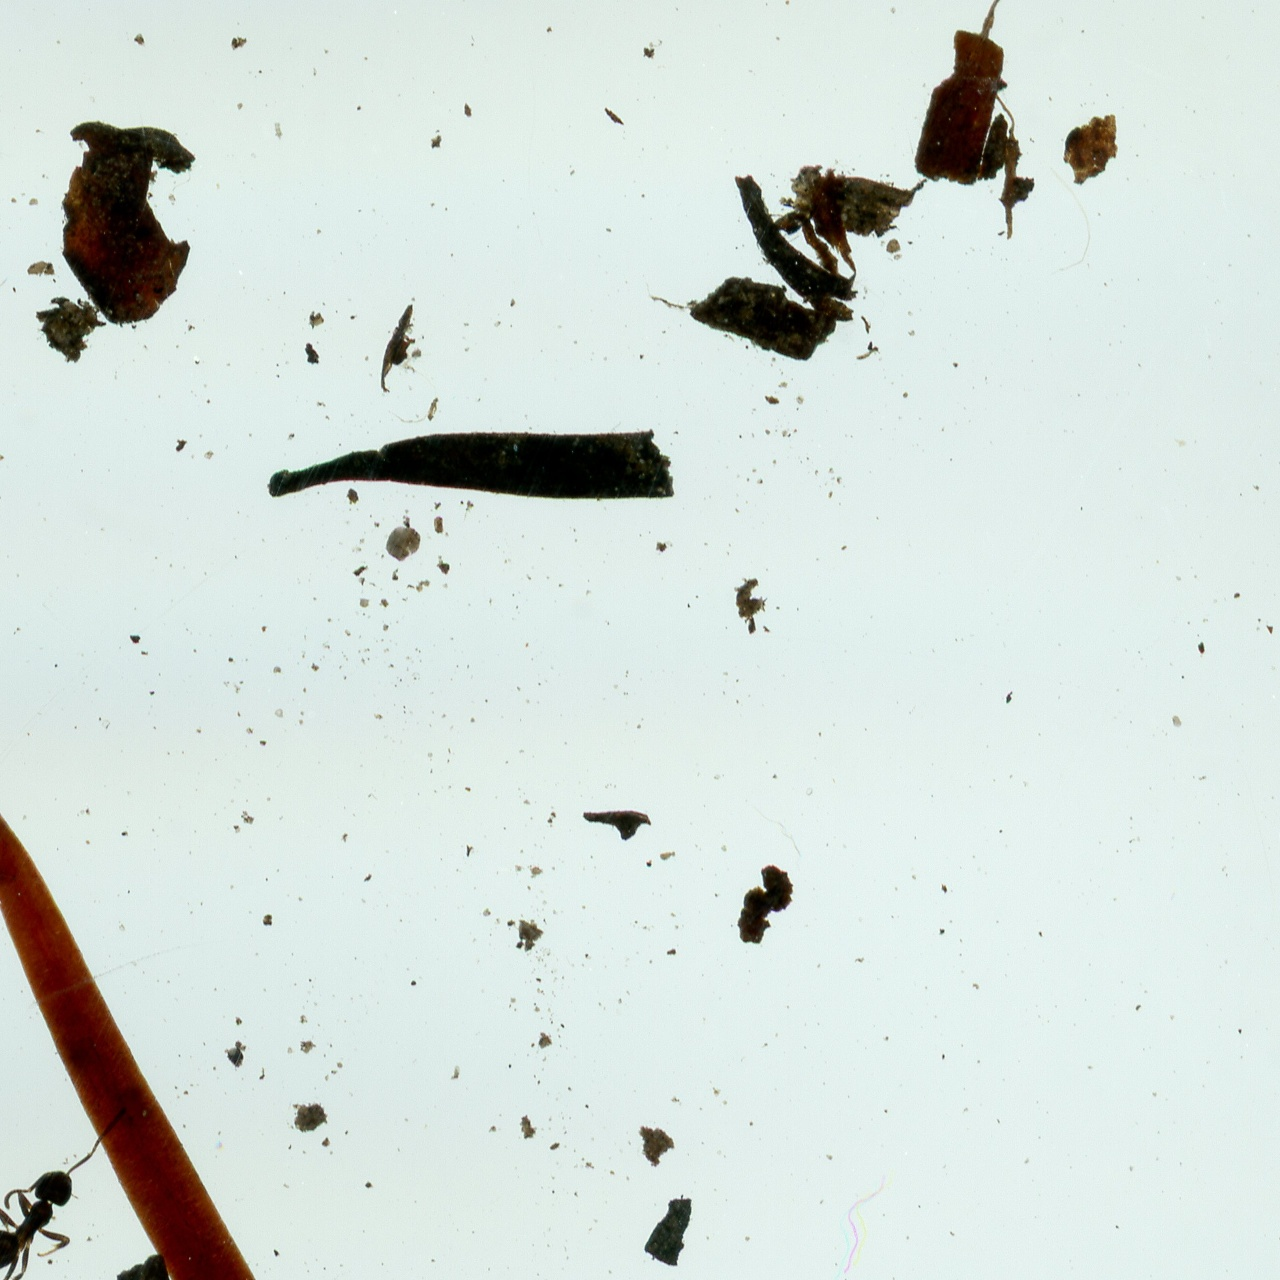arthropod: (0, 1111, 120, 1280)
